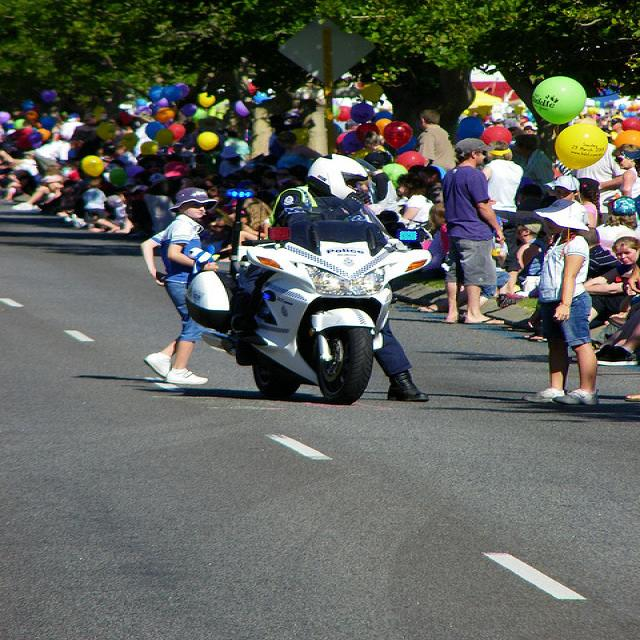motor: (223, 197, 439, 413)
